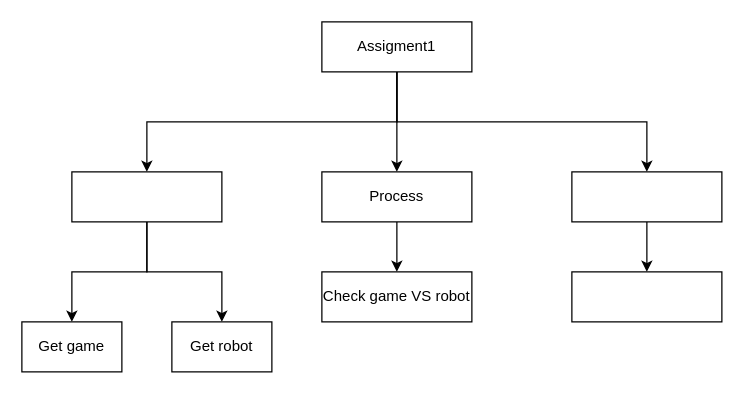
Image size: 744x394. Some labels were removed from this diagram. The shapes that lost their labels are listed below. From the top down, each one's box as (x1, y1, x2, y2) in pixels, then its label:
(71, 171, 222, 222): Input
(571, 171, 722, 222): Output
